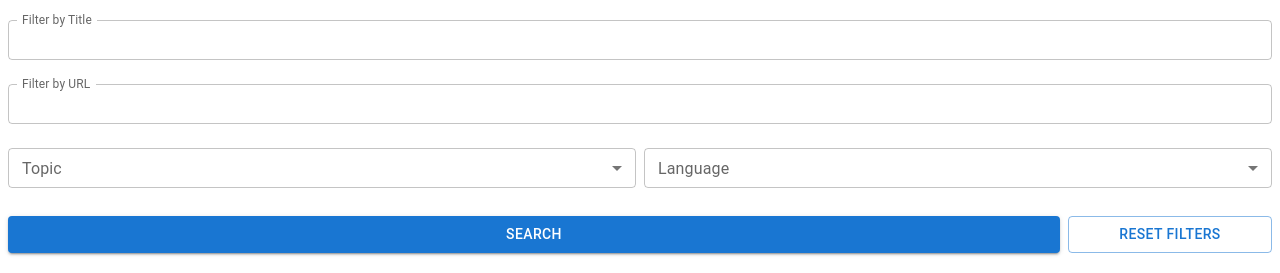
The RejectedItemSearchForm component › resets all form filters when Reset Filters button is clicked
# type something in the text fields
Type "test title" into the field labelled "Filter by Title" at (640, 40), box [8,20,1272,60]
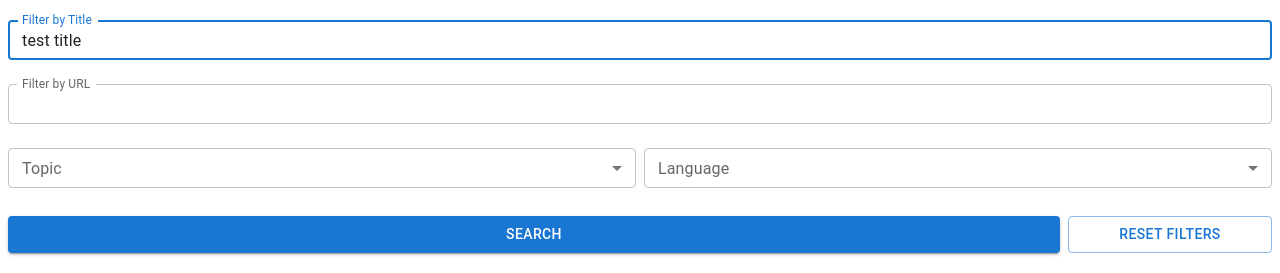
Type "test url" into the field labelled "Filter by URL" at (640, 104), box [8,84,1272,124]
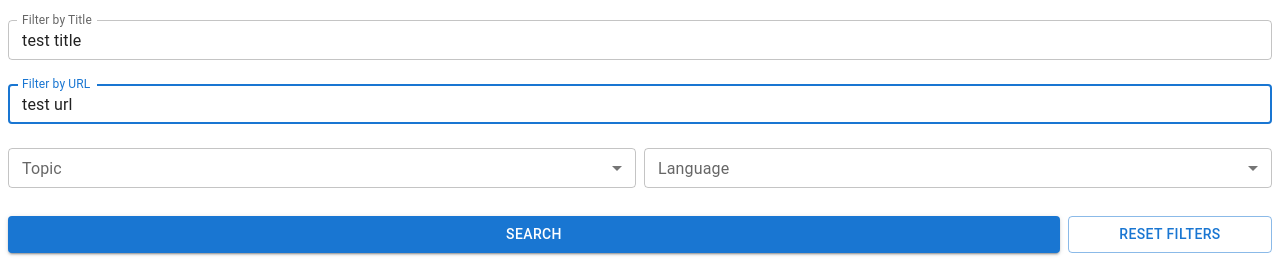
Select "Business" in the dropdown labelled "Topic" at (322, 168), box [8,148,636,188]
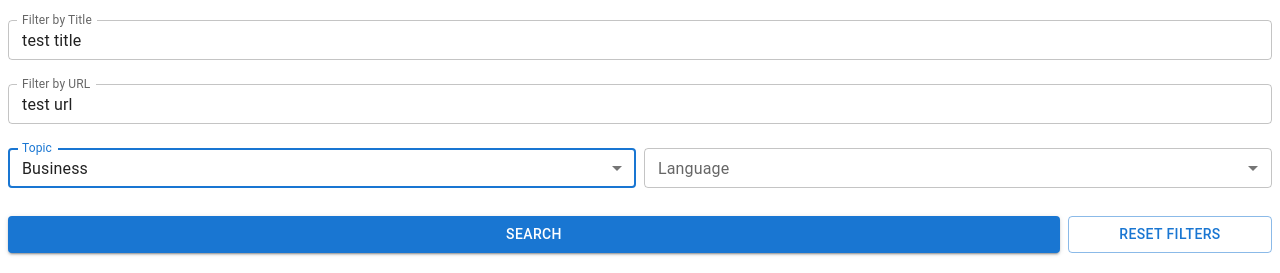
Select "English" in the dropdown labelled "Language" at (958, 168), box [644,148,1272,188]
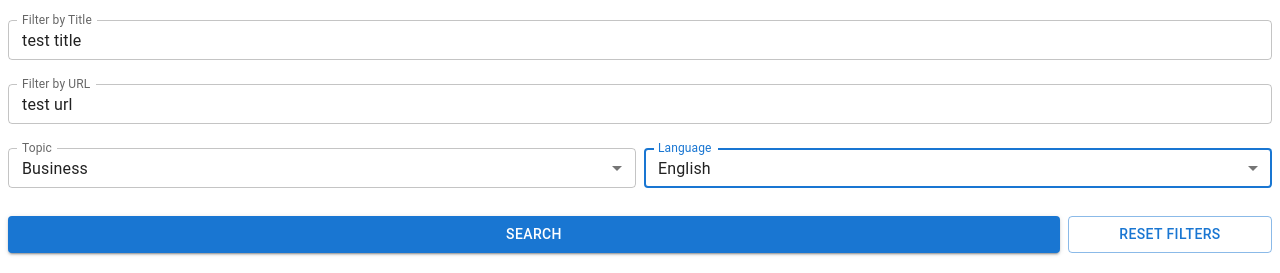
# reset the filters by clicking on the reset filters button
Click the button "Reset Filters" at (1170, 234), box [1068,216,1272,252]
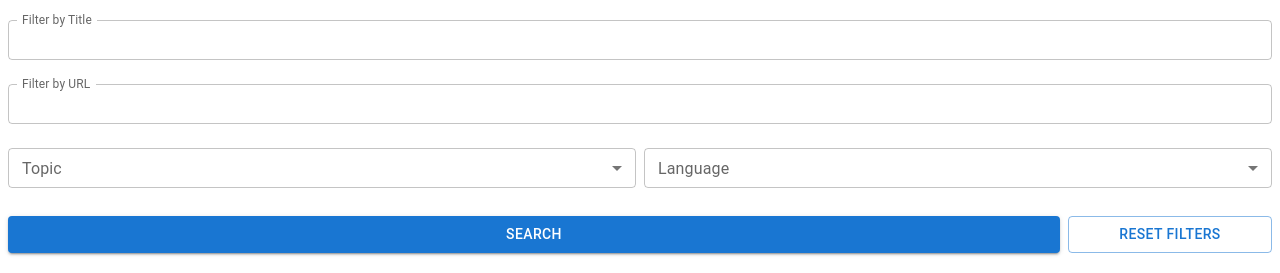
Expected: the field labelled "Filter by Title" is empty, [8,20,1272,60]
Expected: the field labelled "Filter by URL" is empty, [8,84,1272,124]
